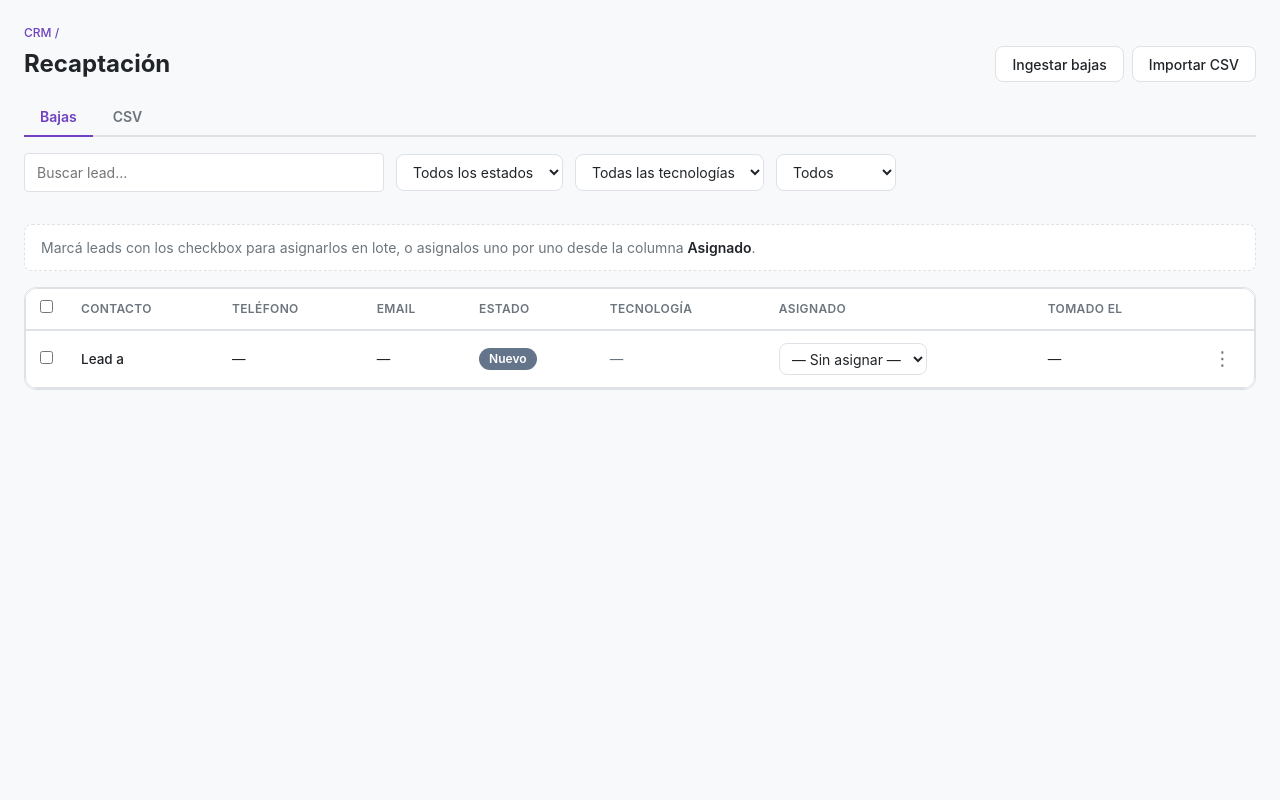
Test case: RecaptacionPage — inline single-assign › IS3 — single-assign failure surfaces an error toast
Select "Operador Uno" in the dropdown named "asignar lead lead a" at (853, 359), box [779, 343, 927, 375]
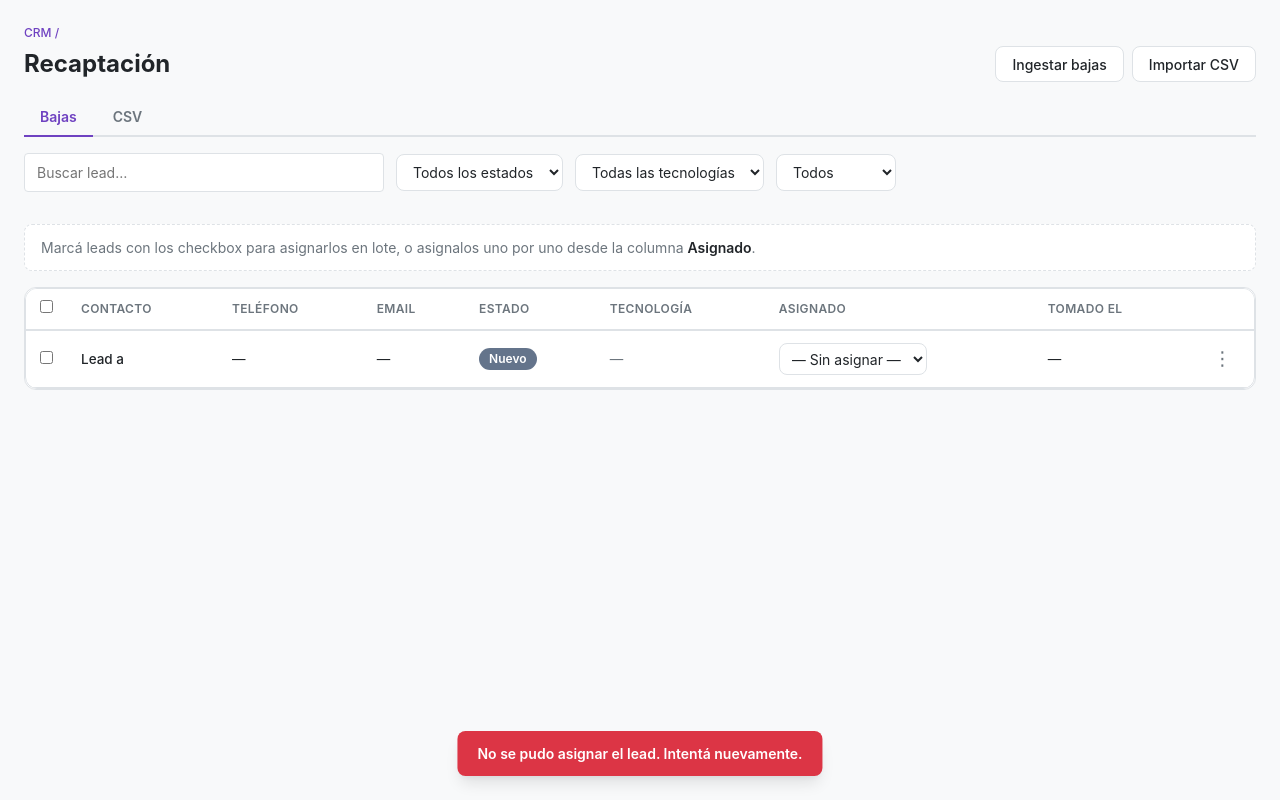
Expected: the message shows "No se pudo asignar", [477, 745, 802, 762]
